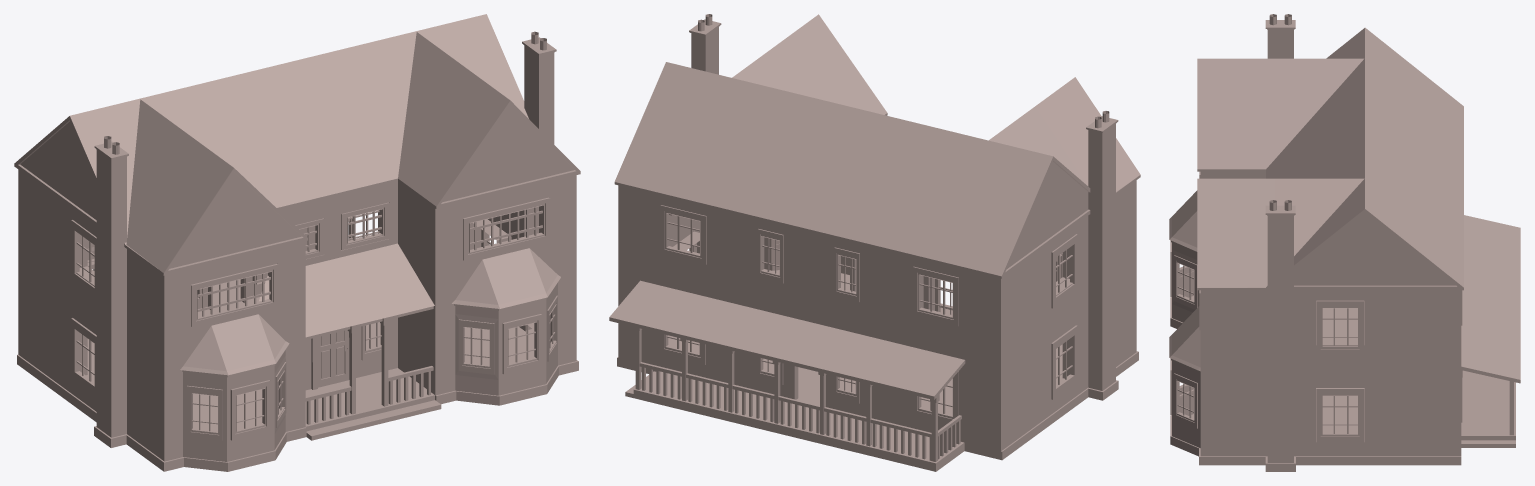
The model's file is house.dae.
The picture shows the model from 3 angles, left to right: view 1: azimuth 30°, elevation 25°; view 2: azimuth 150°, elevation 25°; view 3: azimuth 270°, elevation 25°; orthographic projection. The views are drawn at different scales.
Parts seen in each view (by area): view 1: HOUSE_MAIN, WINDOW_001, WINDOW, Front_Door, RAILING_001, RAILING, WINDOW_006, WINDOW_011, WINDOW_003, WINDOW_008, WINDOW_023, WINDOW_022 (+3 smaller); view 2: HOUSE_MAIN, RAILING_002, WINDOW_014, WINDOW_015, WINDOW_023, WINDOW_022, WINDOW_017, WINDOW_016, WINDOW_020, WINDOW_021; view 3: HOUSE_MAIN, WINDOW_012, WINDOW_013, WINDOW_007, WINDOW_010.
Part boxes in pixels (x1=…): HOUSE_MAIN: x1=14, y1=14, x2=580, y2=471; WINDOW_001: x1=191, y1=264, x2=278, y2=326; WINDOW: x1=463, y1=197, x2=550, y2=260; Front_Door: x1=311, y1=330, x2=349, y2=389; RAILING_001: x1=380, y1=317, x2=433, y2=406; RAILING: x1=305, y1=324, x2=357, y2=424; WINDOW_006: x1=502, y1=314, x2=541, y2=374; WINDOW_011: x1=230, y1=380, x2=270, y2=440; WINDOW_003: x1=341, y1=202, x2=389, y2=250; WINDOW_008: x1=458, y1=319, x2=494, y2=374; WINDOW_023: x1=71, y1=318, x2=96, y2=396; WINDOW_022: x1=71, y1=220, x2=96, y2=298; HOUSE_MAIN: x1=609, y1=14, x2=1140, y2=471; RAILING_002: x1=634, y1=327, x2=961, y2=461; WINDOW_014: x1=660, y1=205, x2=706, y2=264; WINDOW_015: x1=913, y1=266, x2=958, y2=326; WINDOW_023: x1=1051, y1=325, x2=1077, y2=399; WINDOW_022: x1=1051, y1=234, x2=1077, y2=308; WINDOW_017: x1=758, y1=229, x2=783, y2=283; WINDOW_016: x1=834, y1=247, x2=859, y2=302; WINDOW_020: x1=913, y1=371, x2=958, y2=423; WINDOW_021: x1=659, y1=333, x2=705, y2=364; HOUSE_MAIN: x1=1169, y1=14, x2=1520, y2=471; WINDOW_012: x1=1316, y1=388, x2=1364, y2=442; WINDOW_013: x1=1316, y1=300, x2=1364, y2=354; WINDOW_007: x1=1174, y1=373, x2=1197, y2=428; WINDOW_010: x1=1174, y1=255, x2=1197, y2=309.
Bounding box in the file's own units: 4.74 × 3.63 × 3.04.
